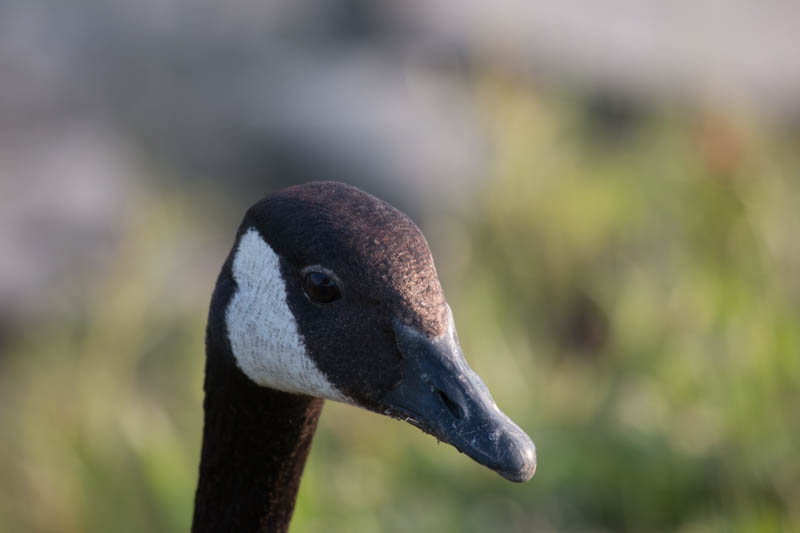goose-head: (205, 182, 538, 484)
